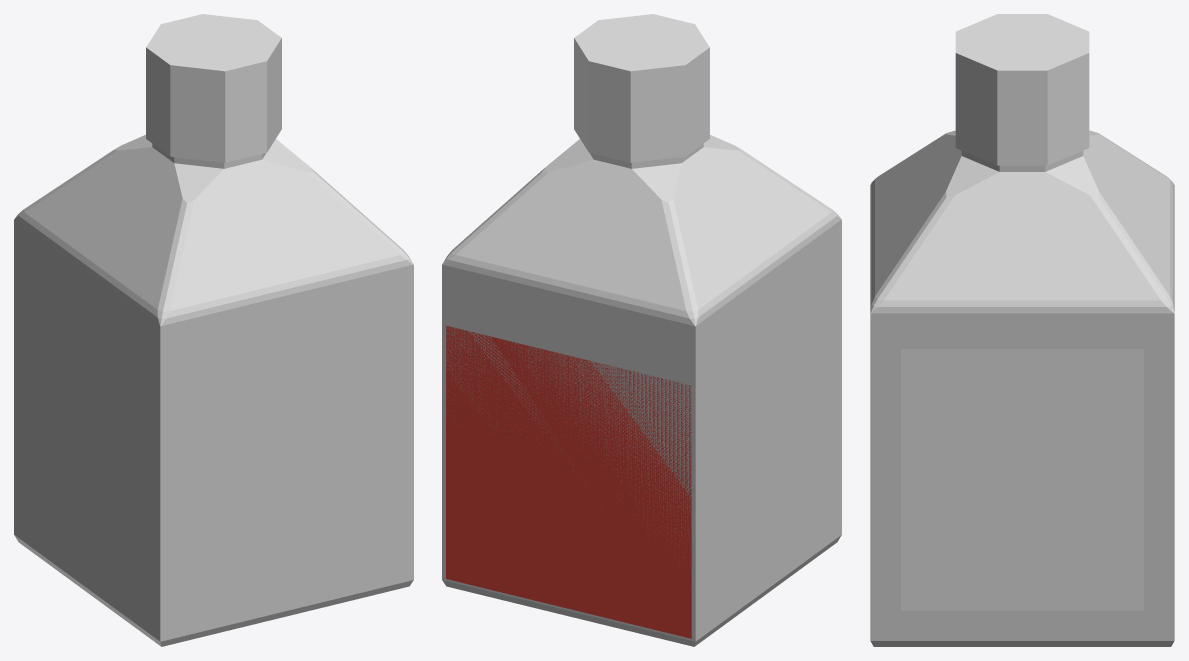
Rendered from mediaBottle.fbx.
The picture shows the model from 3 angles, left to right: view 1: azimuth 30°, elevation 25°; view 2: azimuth 150°, elevation 25°; view 3: azimuth 270°, elevation 25°; orthographic projection. The views are drawn at different scales.
Visible parts, largest first — view 1: MediumBottleVR, Cap; view 2: MediumBottleVR, MediumLiquid, Cap; view 3: MediumBottleVR, Label, Cap.
Boxes of the visible parts, bbox=[...] form: MediumBottleVR: bbox=[14, 135, 413, 646]; Cap: bbox=[146, 14, 281, 162]; MediumBottleVR: bbox=[442, 135, 841, 646]; MediumLiquid: bbox=[446, 325, 691, 638]; Cap: bbox=[574, 14, 709, 162]; MediumBottleVR: bbox=[870, 130, 1174, 646]; Label: bbox=[901, 349, 1143, 610]; Cap: bbox=[955, 14, 1089, 165].
Size of the model in its own units: 201 by 396 by 200.
